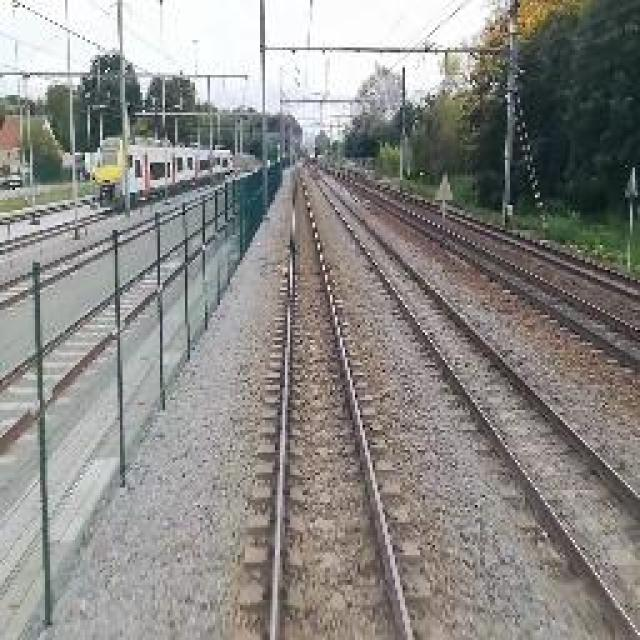rail: (221, 161, 450, 640)
